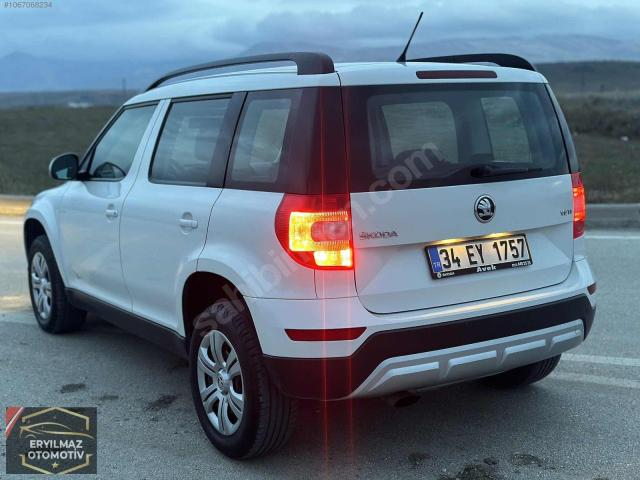plaka: (426, 234, 532, 278)
